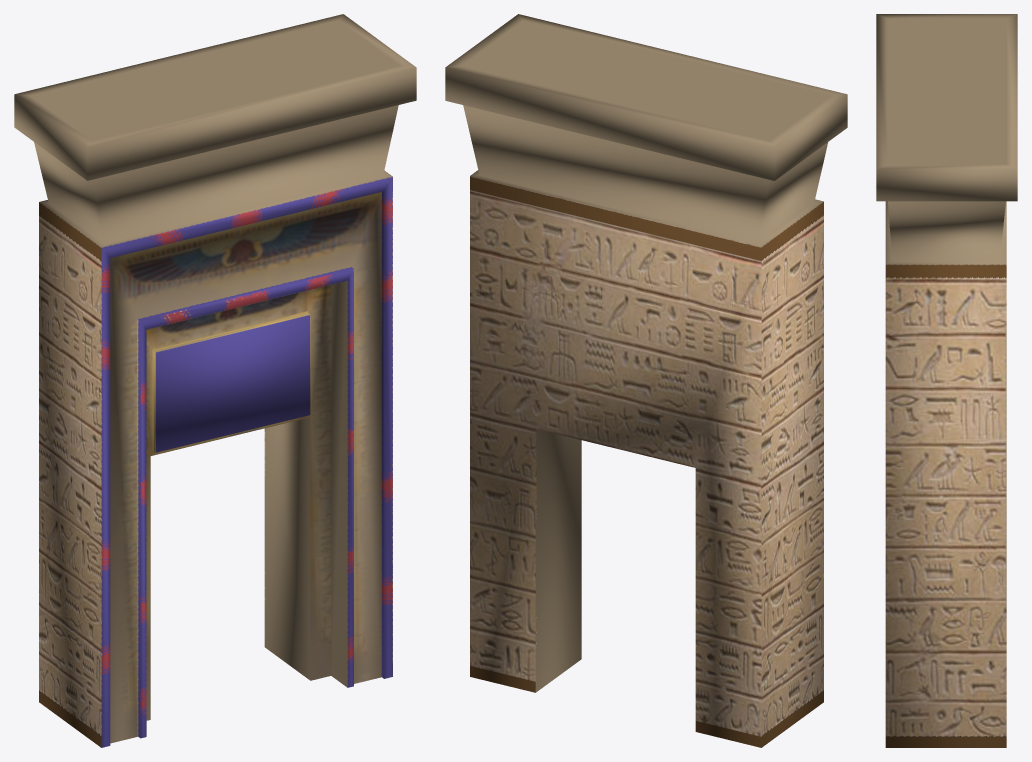
The model's file is door_final.fbx.
The picture shows the model from 3 angles, left to right: view 1: azimuth 30°, elevation 25°; view 2: azimuth 150°, elevation 25°; view 3: azimuth 270°, elevation 25°; orthographic projection. The views are drawn at different scales.
Visible parts, largest first — view 1: Door; view 2: Door; view 3: Door.
Boxes of the visible parts, x1=… form: Door: x1=14, y1=14, x2=416, y2=747; Door: x1=445, y1=14, x2=847, y2=747; Door: x1=876, y1=14, x2=1017, y2=747.
Bounding box in the file's own units: 776 × 1371 × 298.
